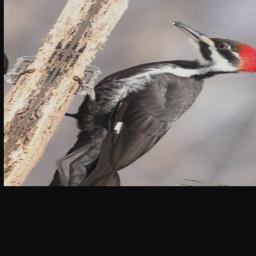Woodpecker: (28, 9, 256, 185)
